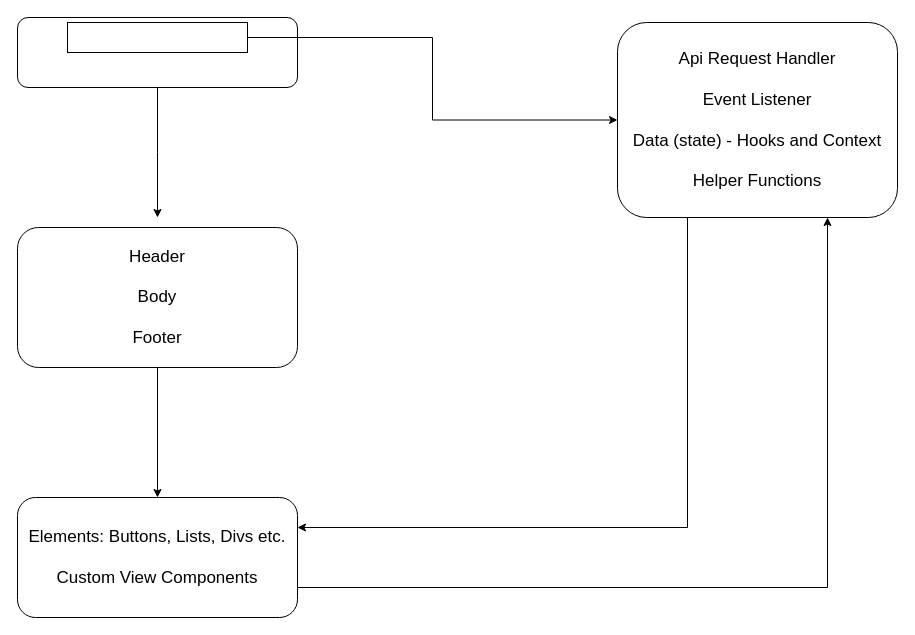
This 915x635 diagram has some shape labels left out. The shapes that lost their labels are listed below. From the top down, each one's box as (x1, y1, x2, y2) in pixels, then its label:
(66, 22, 248, 52): Logic Components
(16, 16, 298, 88): View Components
